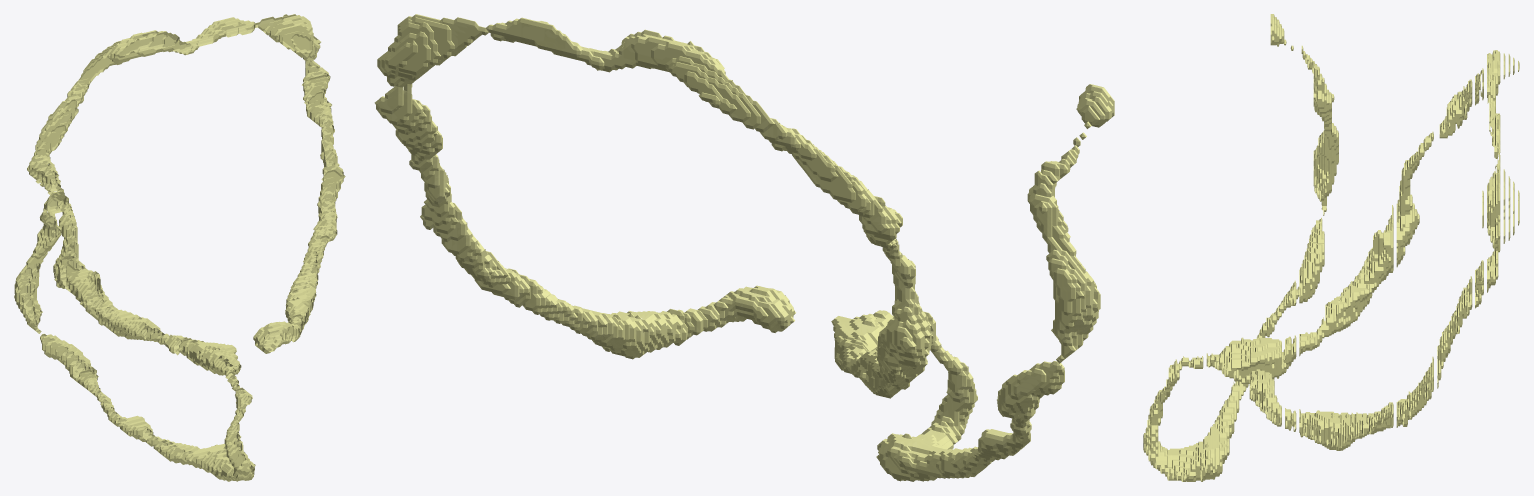
File: SVV_RIAL.gltf
The picture shows the model from 3 angles, left to right: view 1: azimuth 30°, elevation 25°; view 2: azimuth 150°, elevation 25°; view 3: azimuth 270°, elevation 25°; orthographic projection. The views are drawn at different scales.
Parts seen in each view (by area): view 1: RIAL; view 2: RIAL; view 3: RIAL.
Boxes of the visible parts, left/top/right/bottom form: RIAL: left=14, top=14, right=345, bottom=481; RIAL: left=374, top=14, right=1114, bottom=481; RIAL: left=1143, top=14, right=1519, bottom=481.
Size of the model in its own units: 89133 by 78378 by 60830.
